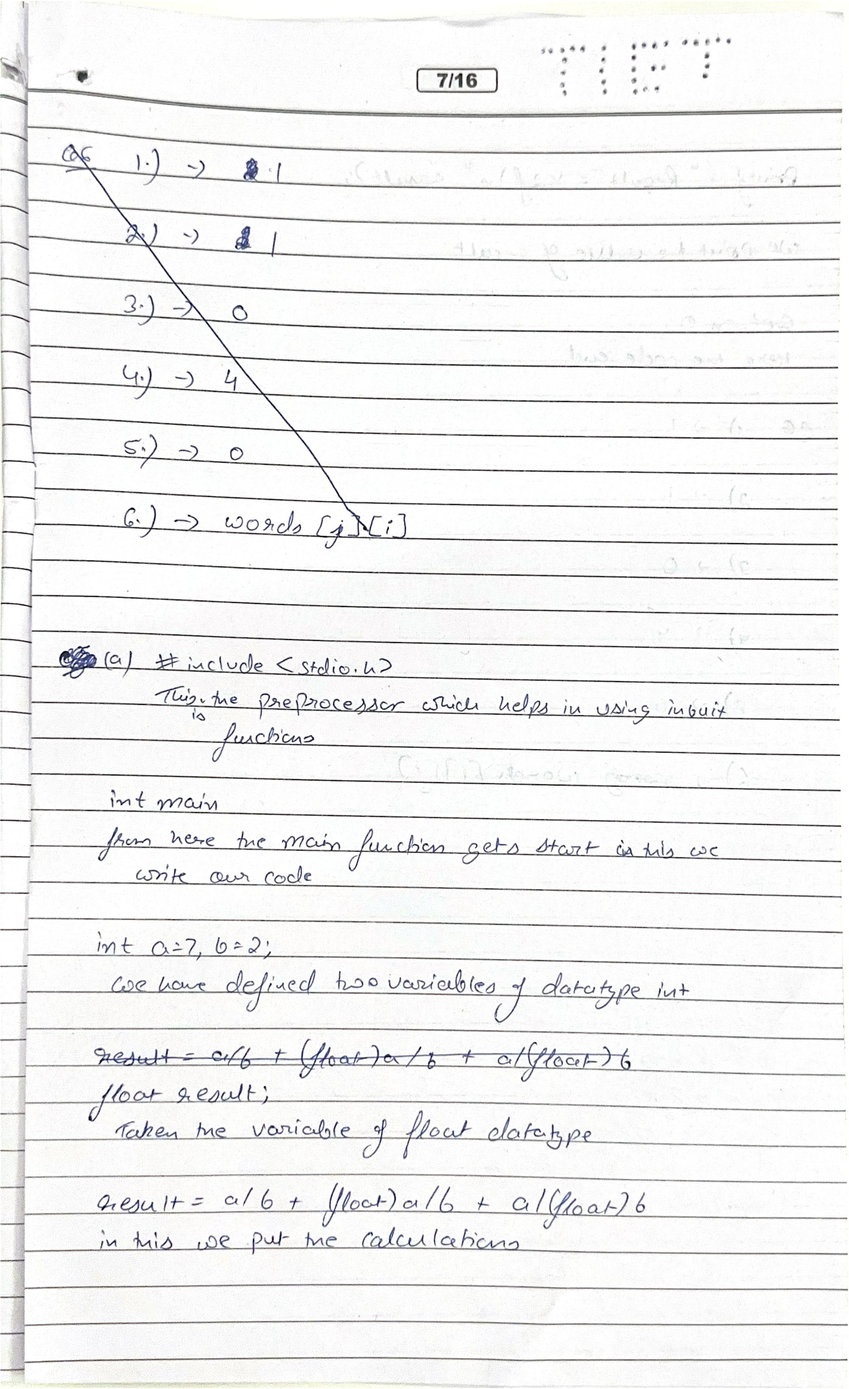cuttings: (58, 141, 408, 550), (92, 1037, 635, 1085), (58, 643, 99, 680)
